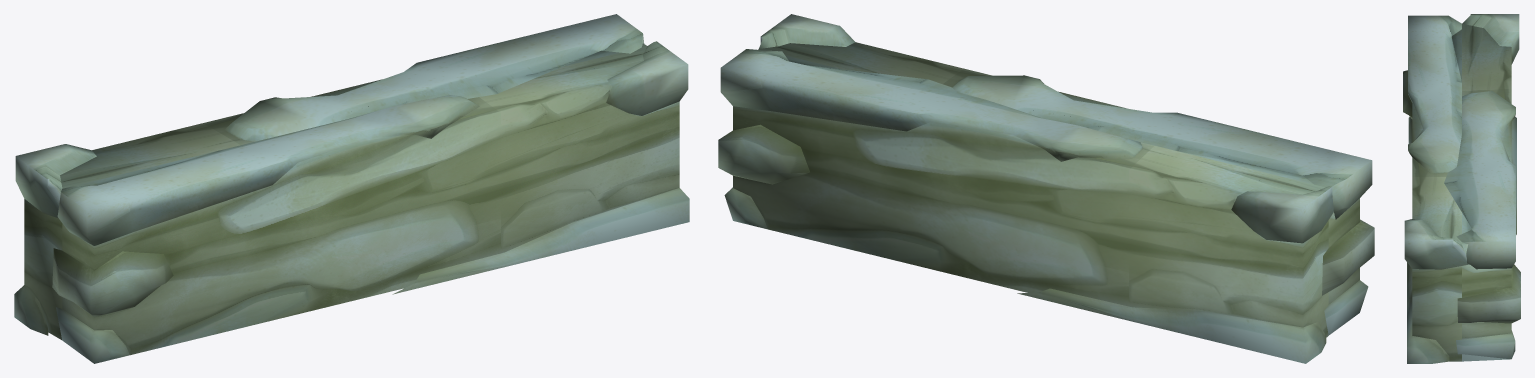
The model's file is StoneWall.fbx.
The picture shows the model from 3 angles, left to right: view 1: azimuth 30°, elevation 25°; view 2: azimuth 150°, elevation 25°; view 3: azimuth 270°, elevation 25°; orthographic projection. The views are drawn at different scales.
Parts seen in each view (by area): view 1: StoneWall; view 2: StoneWall; view 3: StoneWall.
Part boxes in pixels (bbox=[...]): StoneWall: bbox=[14, 14, 689, 363]; StoneWall: bbox=[718, 14, 1374, 363]; StoneWall: bbox=[1403, 14, 1520, 363].
Bounding box in the file's own units: 4.18 × 1.05 × 0.9113.
